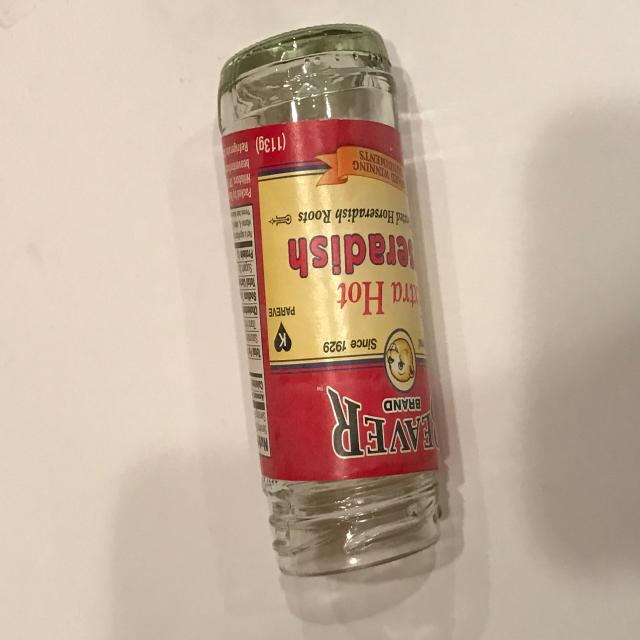glass: (217, 23, 442, 577)
